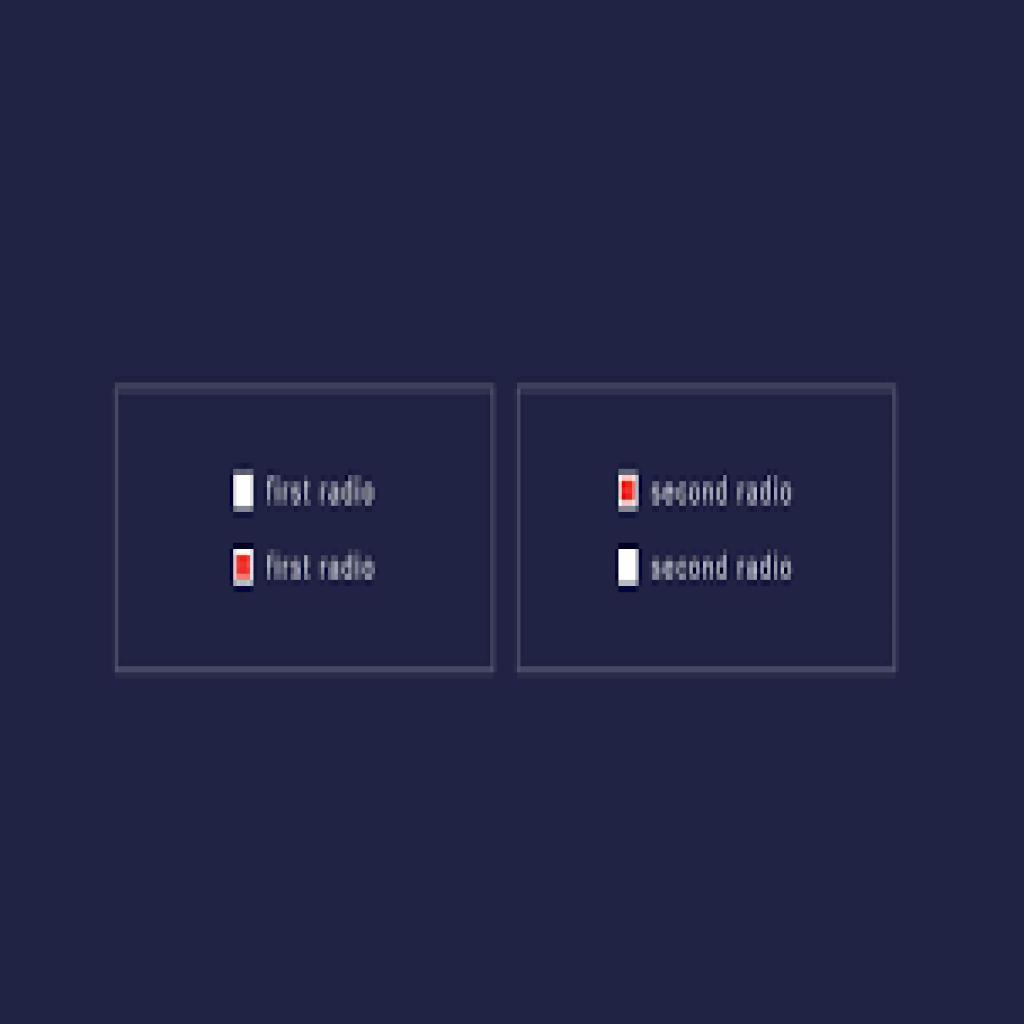checkbox: (234, 473, 258, 514), (619, 475, 641, 515), (233, 552, 257, 588), (618, 549, 640, 588)
label: (647, 474, 798, 513), (650, 551, 795, 588), (262, 544, 382, 588), (262, 474, 381, 511)
